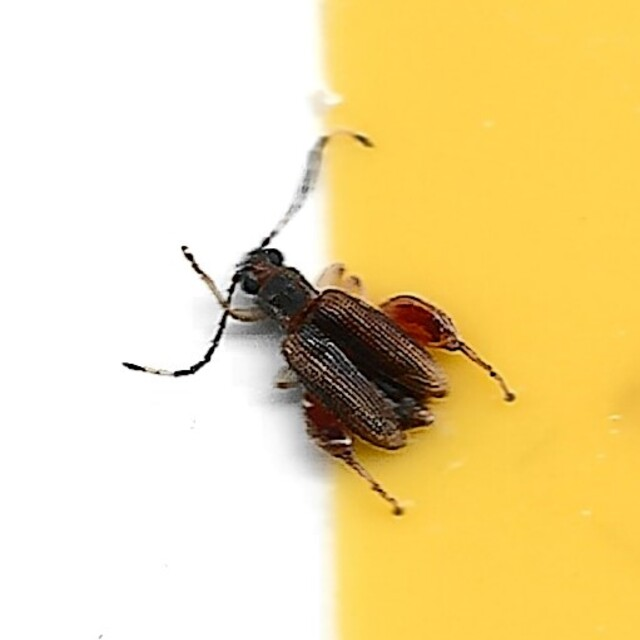Coleoptera: (125, 127, 515, 513)
